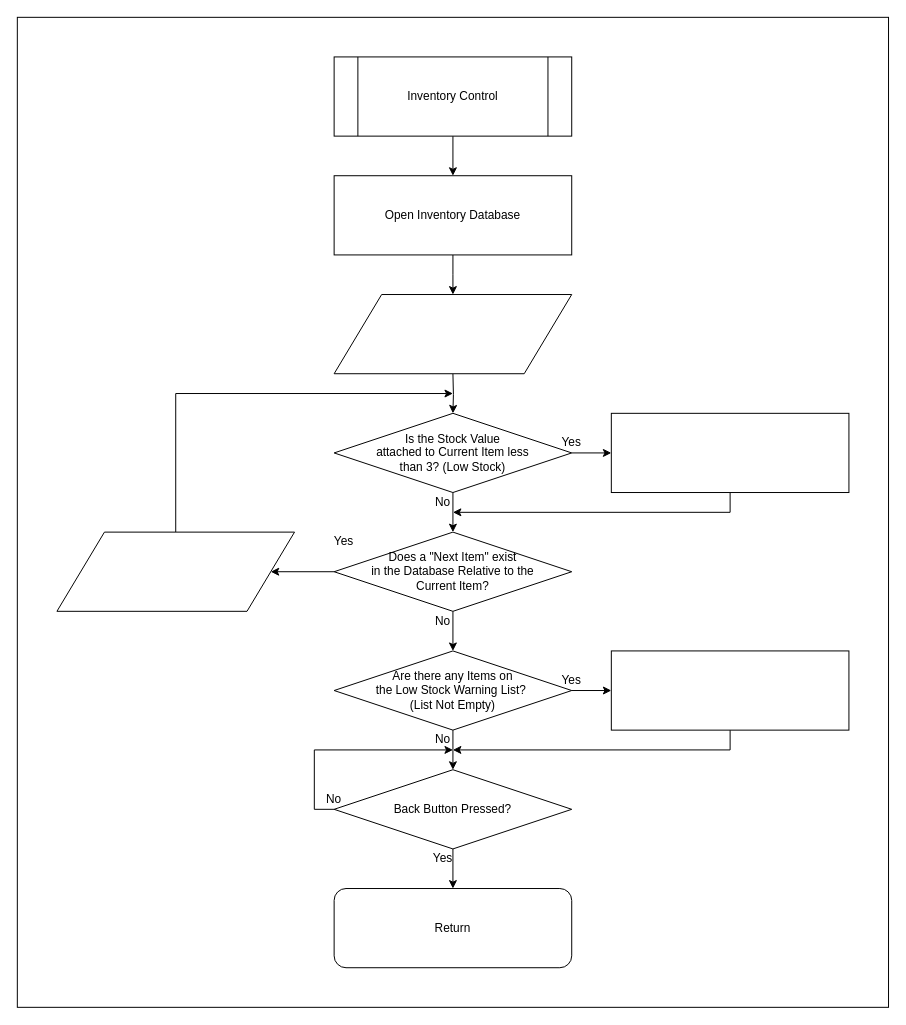
Some shapes in this 906 by 1025 pixel diagram are drawn without their labels. The shapes that lost their labels are listed below. From the top down, each one's box as (x1, y1, x2, y2) in pixels, then its label:
(333, 294, 572, 374): Set "Current Item" Pointer to First Item in Database
(610, 412, 849, 493): Add Current Item to Low Stock Warning List
(56, 531, 295, 611): Set Current Item Pointer to Next Item in Database
(610, 650, 849, 730): Send Low Stock Warning List to Mobile Message Box of Store Manager
